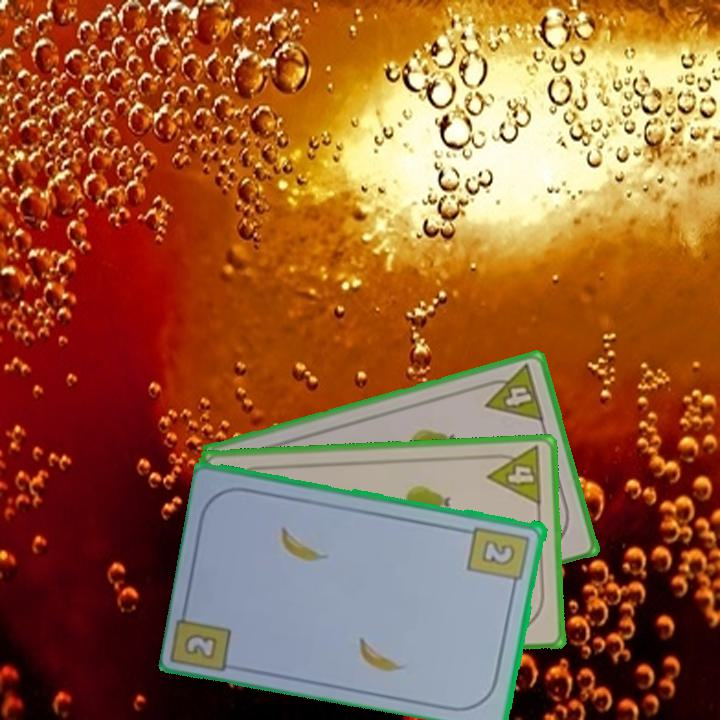2b: (465, 522, 533, 592), (184, 632, 218, 659)
4p: (476, 361, 547, 425), (483, 443, 545, 508)
